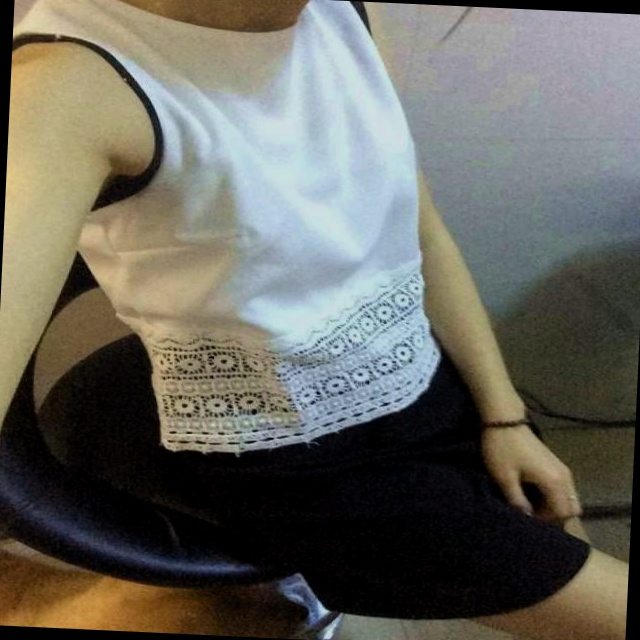Miniskirt: (143, 309, 640, 640)
Sleeveless: (7, 38, 163, 179)
